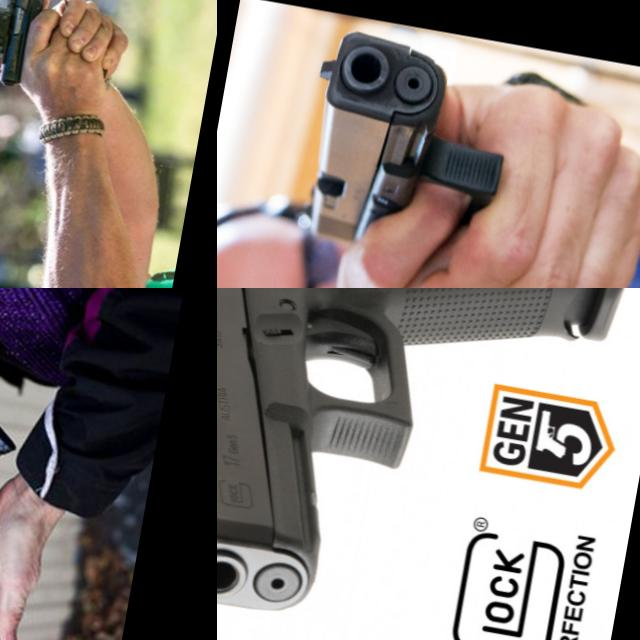handgun: (217, 288, 640, 640), (284, 19, 538, 286), (0, 375, 122, 640), (0, 0, 126, 105)
